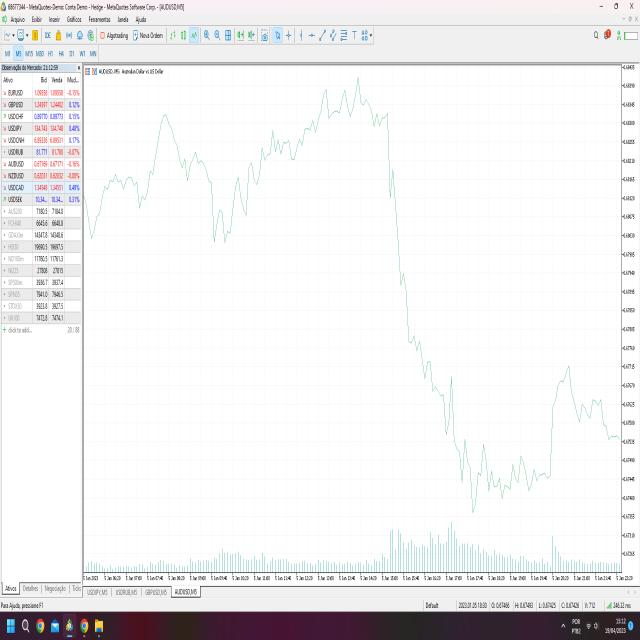fundo_duplo: (207, 163, 237, 269)
oco_inv: (452, 432, 493, 528)
